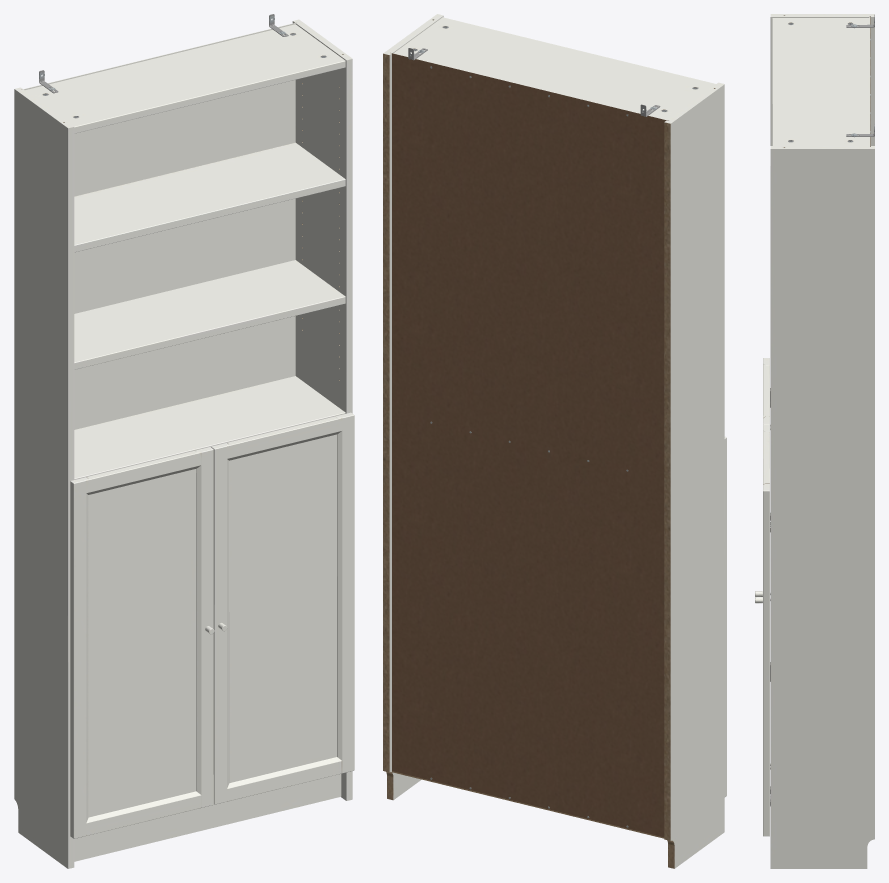
The picture shows the model from 3 angles, left to right: view 1: azimuth 30°, elevation 25°; view 2: azimuth 150°, elevation 25°; view 3: azimuth 270°, elevation 25°; orthographic projection. The views are drawn at different scales.
Parts seen in each view (by area): view 1: world; view 2: world; view 3: world.
Boxes of the visible parts, left/top/right/bottom form: world: left=14, top=14, right=354, bottom=868; world: left=383, top=14, right=726, bottom=868; world: left=755, top=14, right=874, bottom=868.
Bounding box in the file's own units: 0.8 × 2.02 × 0.3.
Materials: 1 (1 with a texture image).
